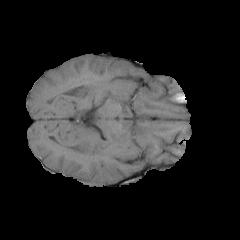glioma: (65, 129, 100, 160)
